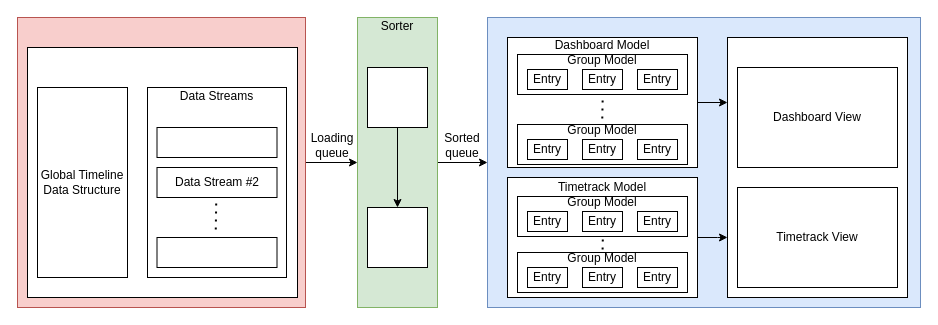
Some shapes in this 938 by 325 pixel diagram are drawn without their labels. Here are the shapes that lost their labels. From the top down, the box of each, then its label:
(366, 66, 428, 128): Merge
(16, 16, 306, 308): Loader
(156, 126, 277, 158): Data Stream #1
(486, 16, 920, 308): Manager
(26, 46, 298, 298): Collector
(726, 36, 908, 298): PyQt5 Front-End
(156, 236, 277, 268): Data Stream #3
(366, 206, 428, 268): Sort
